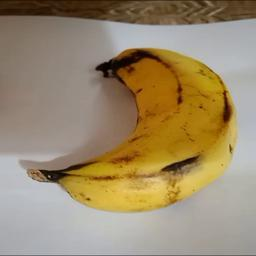Banana Semifresh: (21, 43, 236, 215)
